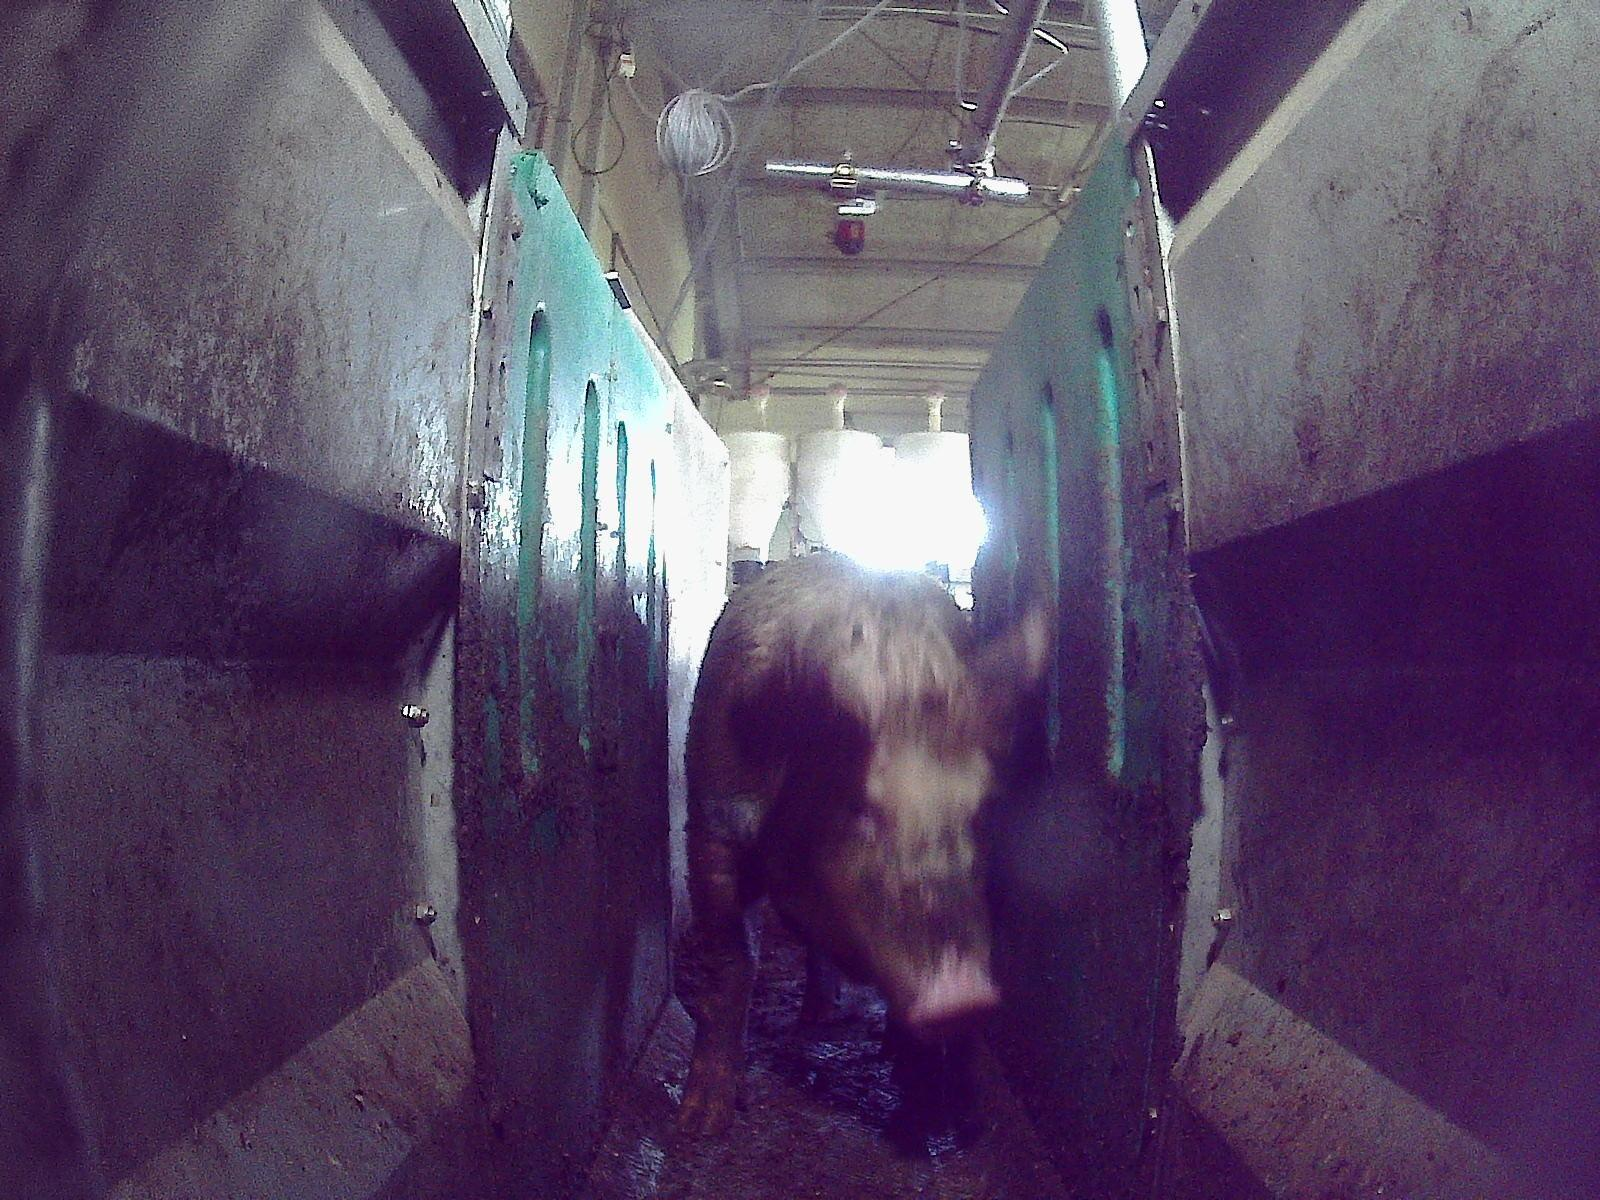Face: (813, 713, 997, 1038)
